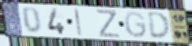0: (21, 5, 44, 35)
4: (47, 7, 67, 36)
D: (146, 11, 172, 41)
G: (123, 10, 149, 40)
I: (73, 7, 84, 37)
Z: (95, 8, 122, 39)
